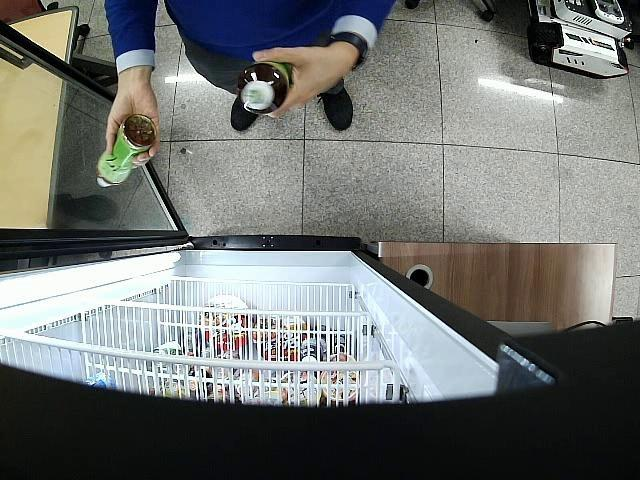19_17cha: (95, 117, 155, 186), (238, 64, 290, 116)
